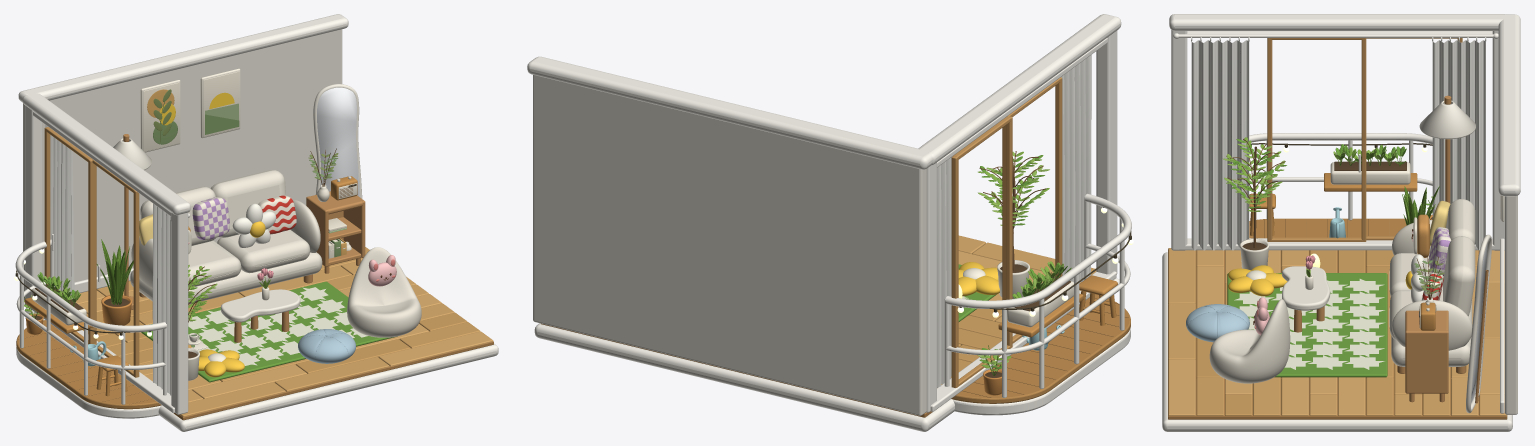
Rendered from cozy-room-final.glb.
3 views of the same model, side by side, from view 1: azimuth 30°, elevation 25°; view 2: azimuth 150°, elevation 25°; view 3: azimuth 270°, elevation 25° (orthographic). The views are drawn at different scales.
Parts seen in each view (by area): view 1: A02 | Back ivory wall.001, A02 | Rounded upper back cornice.001, F02 · Continuous sculptural bean chair.001, A01 | Raised ivory base.001, A05 | Curved honey balcony deck.001, T01 • leaf green rug.001, A03 | Left rounded cornice.001, A03 | White structural post -1.001, F06 · Actual reflective glass.001, A04 | Rear softly pleated drape.001, A04 | Front softly pleated drape.001, A03 | White structural post 1.001 (+45 smaller); view 2: A02 | Back ivory wall.001, A02 | Rounded upper back cornice.001, A01 | Raised ivory base.001, A05 | Curved honey balcony deck.001, A04 | Front softly pleated drape.001, A03 | Left rounded cornice.001, A03 | White structural post -1.001, A04 | Rear softly pleated drape.001, A03 | White structural post 1.001, A05 | Curved balcony rail 1.001, A05 | Curved balcony ivory plinth.001, A03 | Oak sliding stile 1.001 (+11 smaller); view 3: A04 | Front softly pleated drape.001, A04 | Rear softly pleated drape.001, A03 | Left rounded cornice.001, T01 • leaf green rug.001, A01 | Raised ivory base.001, F02 · Continuous sculptural bean chair.001, A02 | Rounded upper back cornice.001, A03 | White structural post -1.001, A02 | Back ivory wall.001, F05 · Rounded side upright.003, A05 | Curved honey balcony deck.001, A01 | Warm underlay visible only in seams.001 (+61 smaller).
Part boxes in pixels (x1=…): A02 | Back ivory wall.001: x1=23, y1=29, x2=342, y2=300; A02 | Rounded upper back cornice.001: x1=18, y1=14, x2=348, y2=102; F02 · Continuous sculptural bean chair.001: x1=347, y1=247, x2=421, y2=337; A01 | Raised ivory base.001: x1=25, y1=308, x2=498, y2=431; A05 | Curved honey balcony deck.001: x1=16, y1=320, x2=161, y2=409; T01 • leaf green rug.001: x1=141, y1=281, x2=397, y2=382; A03 | Left rounded cornice.001: x1=22, y1=93, x2=190, y2=215; A03 | White structural post -1.001: x1=171, y1=212, x2=188, y2=414; F06 · Actual reflective glass.001: x1=317, y1=87, x2=359, y2=196; A04 | Rear softly pleated drape.001: x1=45, y1=125, x2=74, y2=299; A04 | Front softly pleated drape.001: x1=152, y1=203, x2=171, y2=395; A03 | White structural post 1.001: x1=25, y1=106, x2=42, y2=298; A02 | Back ivory wall.001: x1=533, y1=75, x2=926, y2=415; A02 | Rounded upper back cornice.001: x1=527, y1=56, x2=932, y2=169; A01 | Raised ivory base.001: x1=534, y1=278, x2=1119, y2=431; A05 | Curved honey balcony deck.001: x1=951, y1=294, x2=1130, y2=403; A04 | Front softly pleated drape.001: x1=1061, y1=55, x2=1091, y2=283; A03 | Left rounded cornice.001: x1=918, y1=14, x2=1121, y2=165; A03 | White structural post -1.001: x1=1096, y1=30, x2=1117, y2=274; A04 | Rear softly pleated drape.001: x1=937, y1=156, x2=952, y2=387; A03 | White structural post 1.001: x1=926, y1=162, x2=936, y2=412; A05 | Curved balcony rail 1.001: x1=945, y1=193, x2=1131, y2=308; A05 | Curved balcony ivory plinth.001: x1=953, y1=327, x2=1130, y2=415; A03 | Oak sliding stile 1.001: x1=951, y1=156, x2=958, y2=387; A04 | Front softly pleated drape.001: x1=1191, y1=40, x2=1249, y2=250; A04 | Rear softly pleated drape.001: x1=1432, y1=40, x2=1485, y2=250; A03 | Left rounded cornice.001: x1=1169, y1=14, x2=1504, y2=30; T01 • leaf green rug.001: x1=1227, y1=273, x2=1387, y2=377; A01 | Raised ivory base.001: x1=1162, y1=252, x2=1512, y2=431; F02 · Continuous sculptural bean chair.001: x1=1209, y1=299, x2=1290, y2=383; A02 | Rounded upper back cornice.001: x1=1498, y1=14, x2=1520, y2=196; A03 | White structural post -1.001: x1=1171, y1=30, x2=1187, y2=250; A02 | Back ivory wall.001: x1=1505, y1=195, x2=1517, y2=414; F05 · Rounded side upright.003: x1=1405, y1=330, x2=1448, y2=393; A05 | Curved honey balcony deck.001: x1=1249, y1=218, x2=1407, y2=238; A01 | Warm underlay visible only in seams.001: x1=1168, y1=249, x2=1507, y2=419.
Size of the model in its own units: 5.04 by 2.91 by 3.8.
54 materials, 2 textured.
